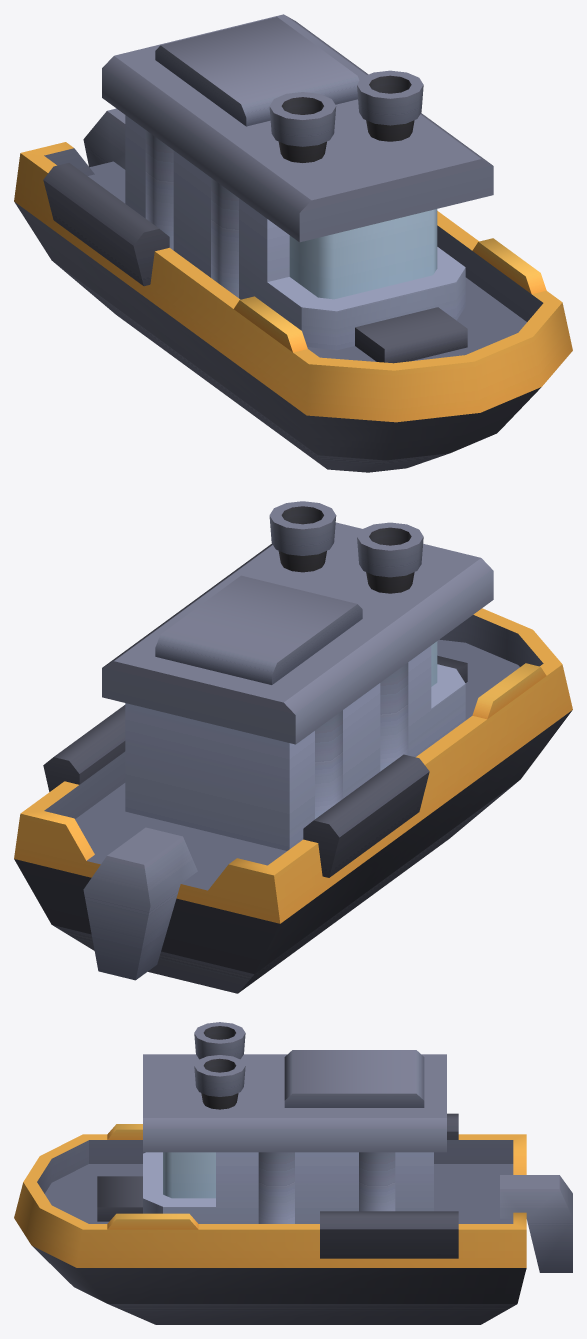
The model's file is boat-tow-b.glb.
The picture shows the model from 3 angles, top to bottom: view 1: azimuth 30°, elevation 25°; view 2: azimuth 150°, elevation 25°; view 3: azimuth 270°, elevation 25°; orthographic projection. The views are drawn at different scales.
Visible parts, largest first — view 1: boat-tow-b; view 2: boat-tow-b; view 3: boat-tow-b.
Boxes of the visible parts, x1,y1,x2,y2 form: boat-tow-b: (14,14,572,472); boat-tow-b: (14,501,572,993); boat-tow-b: (14,1022,572,1324).
Size of the model in its own units: 2.88 by 3.05 by 6.12.
Materials: 1 (1 with a texture image).
